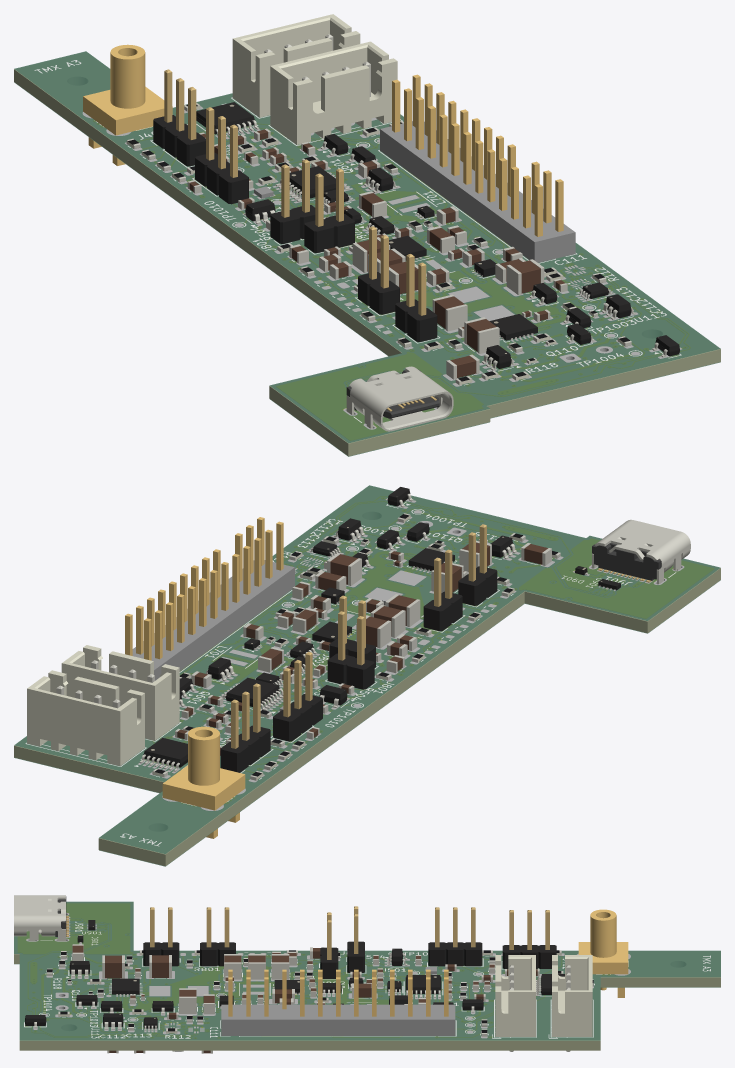
The model's file is pcb.glb.
The picture shows the model from 3 angles, top to bottom: view 1: azimuth 30°, elevation 25°; view 2: azimuth 150°, elevation 25°; view 3: azimuth 270°, elevation 25°; orthographic projection. The views are drawn at different scales.
Parts seen in each view (by area): view 1: =>[0:1:1:61], =>[0:1:1:63], =>[0:1:1:39], =>[0:1:1:17] (×2), =>[0:1:1:56], =>[0:1:1:25] (×4), =>[0:1:1:57], =>[0:1:1:15] (×2), =>[0:1:1:47], =>[0:1:1:27], =>[0:1:1:59], =>[0:1:1:9] (×3) (+3 smaller); view 2: =>[0:1:1:61], =>[0:1:1:63], =>[0:1:1:17] (×2), =>[0:1:1:39], =>[0:1:1:56], =>[0:1:1:25] (×4), =>[0:1:1:15] (×2), =>[0:1:1:57], =>[0:1:1:47], =>[0:1:1:27], =>[0:1:1:59], =>[0:1:1:9] (×4) (+2 smaller); view 3: =>[0:1:1:61], =>[0:1:1:63], =>[0:1:1:39], =>[0:1:1:17] (×2), =>[0:1:1:56], =>[0:1:1:25] (×4), =>[0:1:1:57], =>[0:1:1:15] (×2), =>[0:1:1:9] (×6), =>[0:1:1:59], =>[0:1:1:27], =>[0:1:1:47] (+4 smaller).
Boxes of the visible parts, x1=… form: =>[0:1:1:61]: x1=14, y1=51, x2=720, y2=443; =>[0:1:1:63]: x1=14, y1=52, x2=720, y2=456; =>[0:1:1:39]: x1=380, y1=74, x2=575, y2=262; =>[0:1:1:17] (×2): x1=232, y1=14, x2=397, y2=144; =>[0:1:1:56]: x1=93, y1=113, x2=690, y2=440; =>[0:1:1:25] (×4): x1=270, y1=159, x2=437, y2=341; =>[0:1:1:57]: x1=82, y1=106, x2=681, y2=429; =>[0:1:1:15] (×2): x1=153, y1=69, x2=248, y2=204; =>[0:1:1:47]: x1=346, y1=366, x2=453, y2=431; =>[0:1:1:27]: x1=83, y1=44, x2=172, y2=165; =>[0:1:1:59]: x1=34, y1=60, x2=681, y2=422; =>[0:1:1:9] (×3): x1=432, y1=259, x2=544, y2=353; =>[0:1:1:61]: x1=14, y1=485, x2=720, y2=853; =>[0:1:1:63]: x1=14, y1=486, x2=720, y2=866; =>[0:1:1:17] (×2): x1=27, y1=645, x2=179, y2=765; =>[0:1:1:39]: x1=125, y1=517, x2=294, y2=680; =>[0:1:1:56]: x1=153, y1=498, x2=713, y2=803; =>[0:1:1:25] (×4): x1=327, y1=524, x2=497, y2=689; =>[0:1:1:15] (×2): x1=220, y1=651, x2=322, y2=772; =>[0:1:1:57]: x1=137, y1=498, x2=684, y2=810; =>[0:1:1:47]: x1=592, y1=519, x2=690, y2=584; =>[0:1:1:27]: x1=162, y1=726, x2=245, y2=838; =>[0:1:1:59]: x1=25, y1=498, x2=676, y2=846; =>[0:1:1:9] (×4): x1=327, y1=553, x2=420, y2=648; =>[0:1:1:61]: x1=14, y1=901, x2=720, y2=1040; =>[0:1:1:63]: x1=14, y1=902, x2=720, y2=1050; =>[0:1:1:39]: x1=221, y1=969, x2=455, y2=1035; =>[0:1:1:17] (×2): x1=495, y1=955, x2=592, y2=1051; =>[0:1:1:56]: x1=18, y1=904, x2=561, y2=1037; =>[0:1:1:25] (×4): x1=143, y1=906, x2=364, y2=978; =>[0:1:1:57]: x1=26, y1=912, x2=630, y2=1038; =>[0:1:1:15] (×2): x1=428, y1=907, x2=556, y2=968; =>[0:1:1:9] (×6): x1=102, y1=954, x2=289, y2=1013; =>[0:1:1:59]: x1=24, y1=921, x2=710, y2=1038; =>[0:1:1:27]: x1=578, y1=909, x2=628, y2=997; =>[0:1:1:47]: x1=14, y1=895, x2=68, y2=940.
Bounding box in the file's own units: 0.0464 × 0.0124 × 0.0998.
